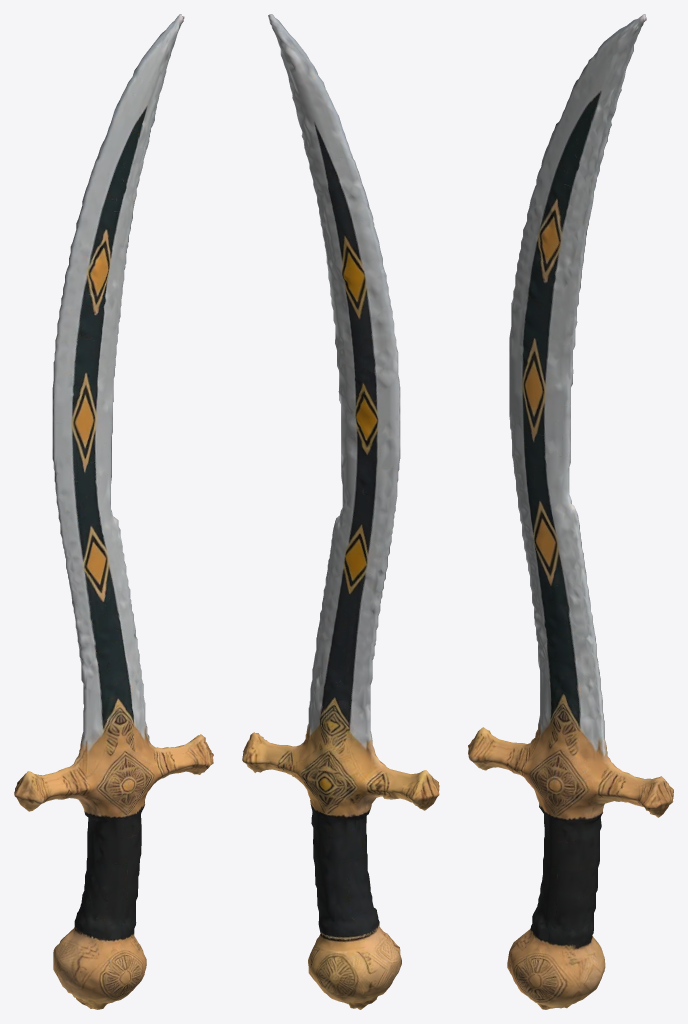
The model's file is Shamshir.glb.
The picture shows the model from 3 angles, left to right: view 1: azimuth 30°, elevation 25°; view 2: azimuth 150°, elevation 25°; view 3: azimuth 330°, elevation 25°; orthographic projection. The views are drawn at different scales.
Size of the model in its own units: 0.4031 by 1.91 by 0.1722.
Materials: 1 (1 with a texture image).
